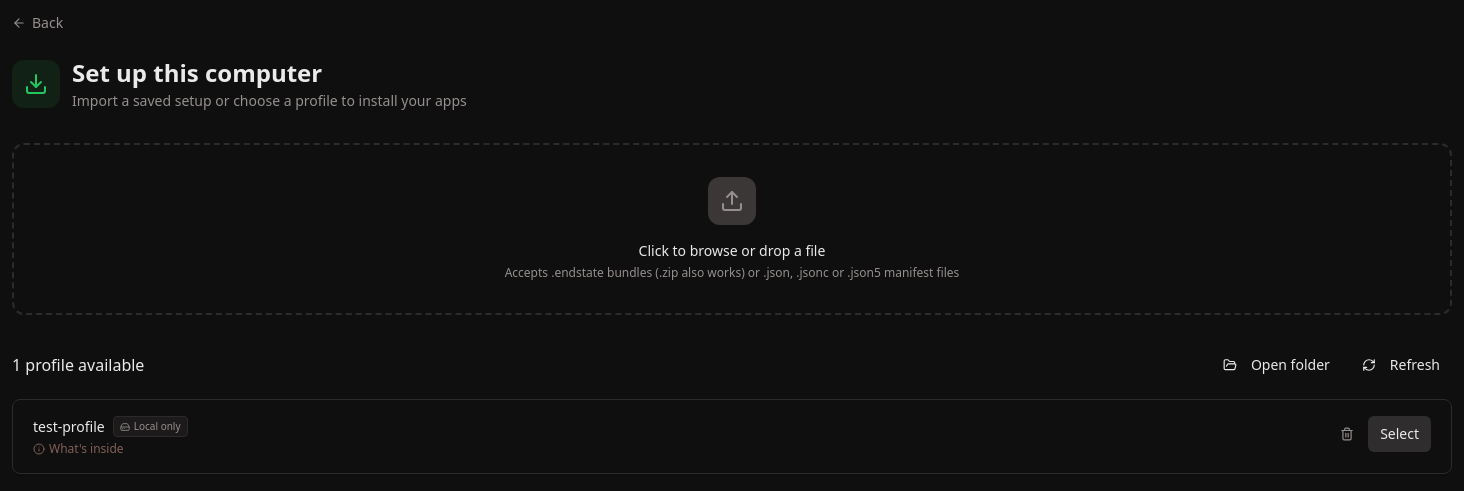
Test case: SetupFlow — preview "N apps" chip › counts a selected manual app with the per-app picker on
Click the text "test-profile". click: (69, 426)
box: [33, 416, 105, 436]
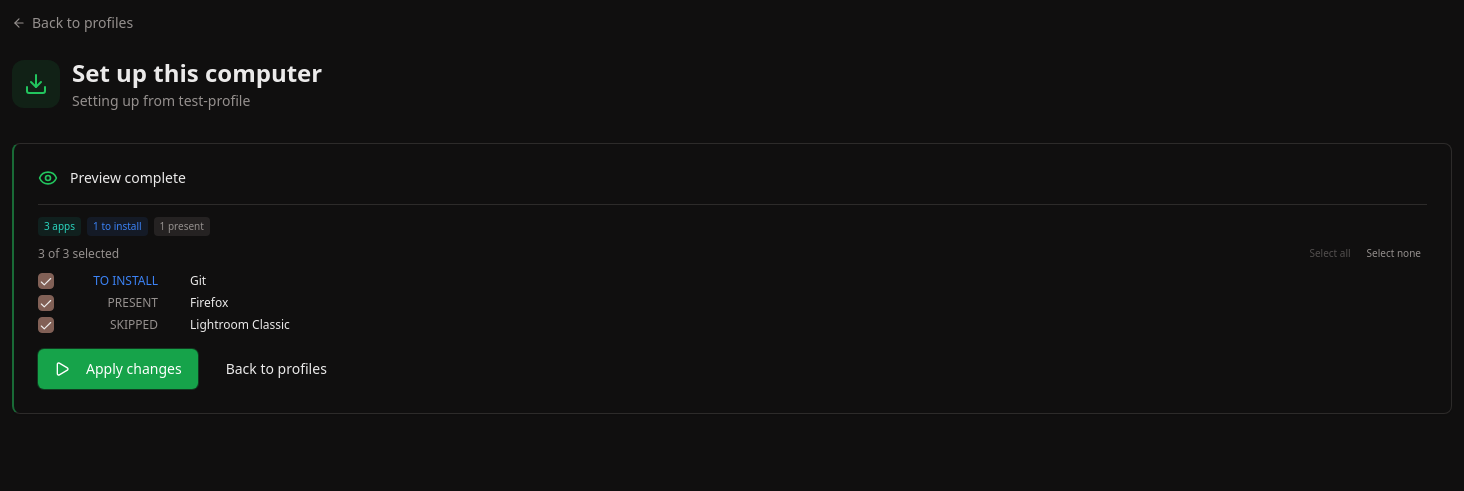
Expected: the button with test id "setup-flow-apply" is shown, [38, 349, 198, 389]
Expected: the button "3 apps" is shown, [38, 217, 81, 236]
Expected: the text "TO INSTALL" is shown 3 times, [93, 272, 158, 289]; [108, 294, 158, 311]; [110, 316, 158, 333]
Click the checkbox with test id "app-picker-checkbox-lightroom". click: (46, 325)
box: [38, 317, 54, 333]
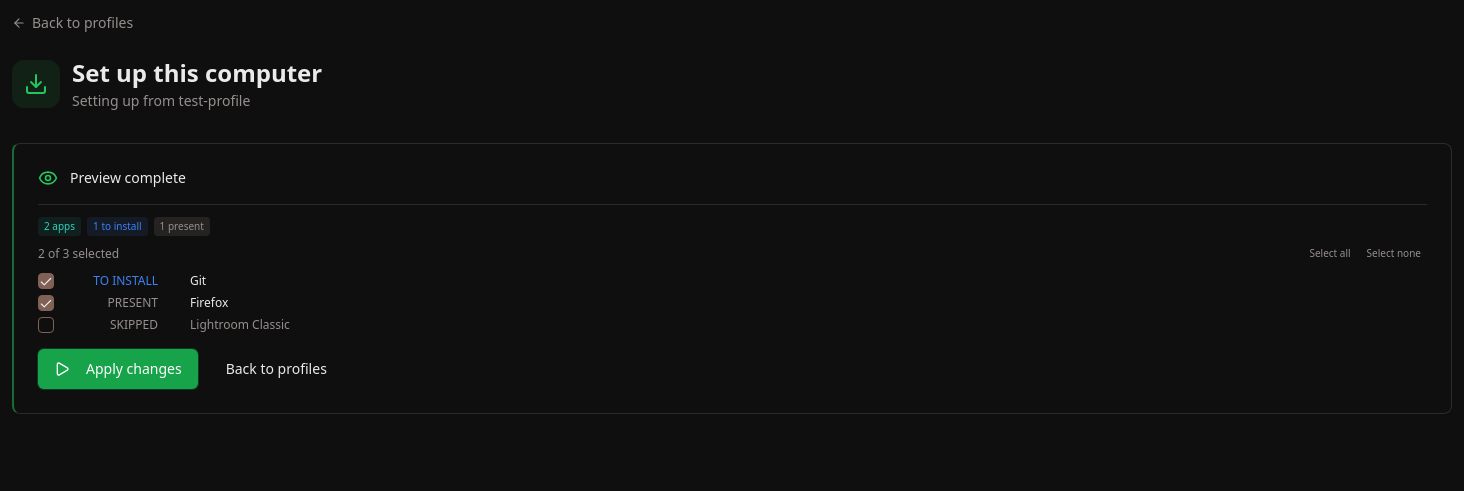
Expected: the button "2 apps" is shown, [38, 217, 81, 236]
